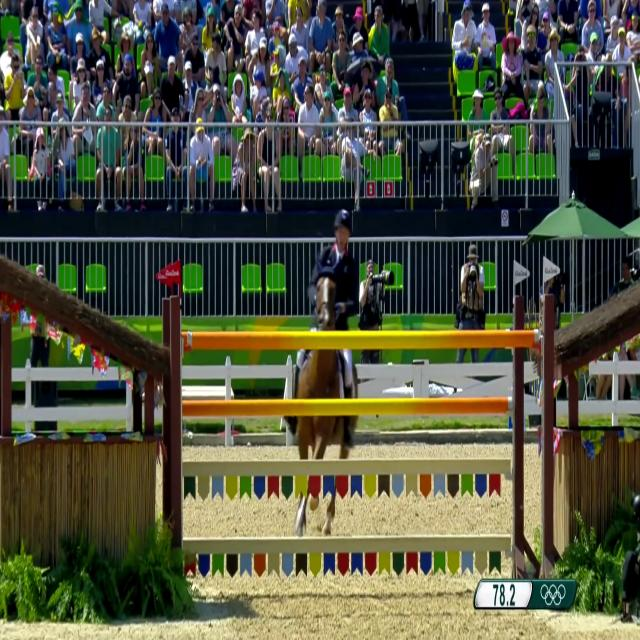Horse Rider: (307, 168, 370, 366)
Horse Running: (278, 260, 376, 536)
